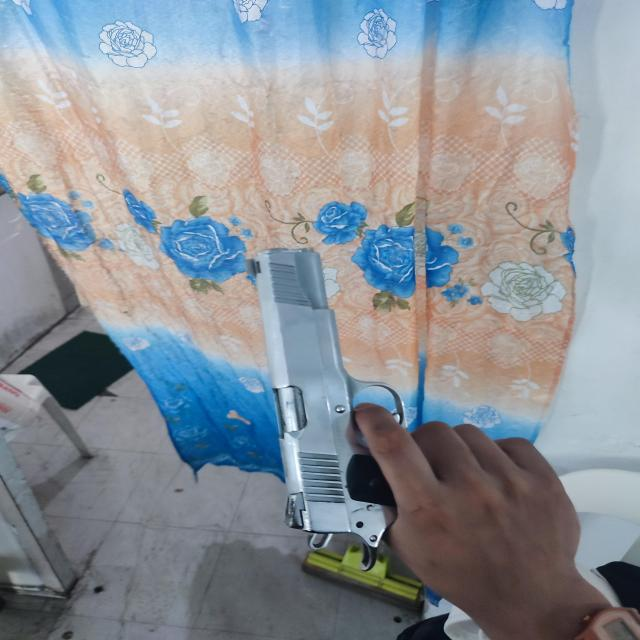pistol: (251, 249, 406, 546)
